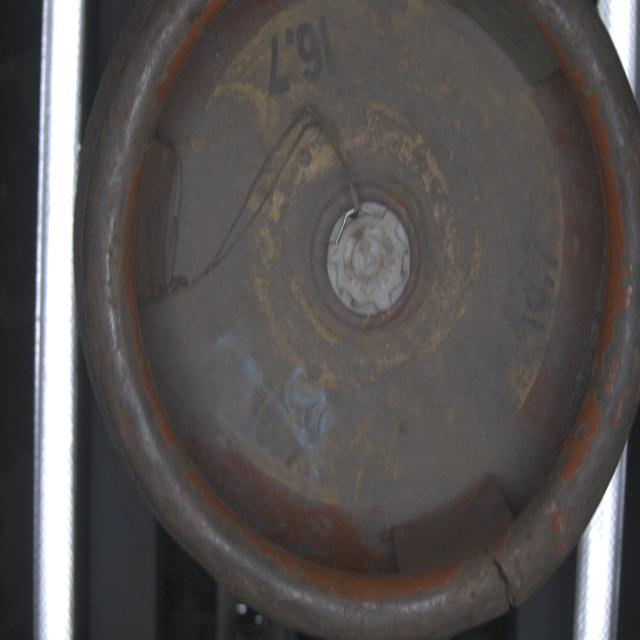Cap: (323, 205, 412, 322)
